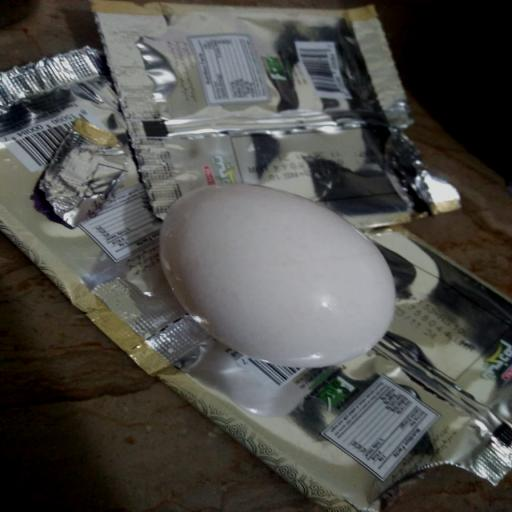telur: (162, 186, 391, 366)
